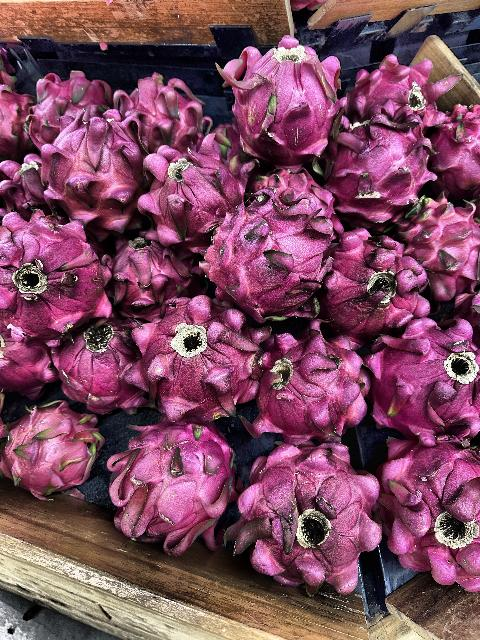buah-naga-matang: (245, 441, 383, 603), (108, 417, 237, 557), (208, 184, 338, 322), (380, 432, 480, 594), (136, 298, 262, 422), (0, 211, 116, 345), (364, 313, 480, 441), (222, 47, 340, 169), (36, 122, 158, 240), (260, 326, 372, 450), (137, 139, 247, 253), (328, 225, 426, 338), (328, 118, 430, 226), (392, 192, 480, 308), (346, 47, 464, 129), (52, 322, 152, 418), (9, 403, 104, 503), (108, 67, 210, 156), (103, 235, 207, 312), (30, 66, 108, 154), (416, 100, 480, 192), (1, 150, 46, 208)
